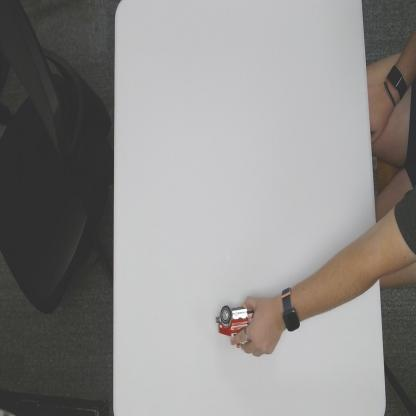Firetruck: (217, 307, 270, 344)
Hand: (232, 294, 280, 359)
